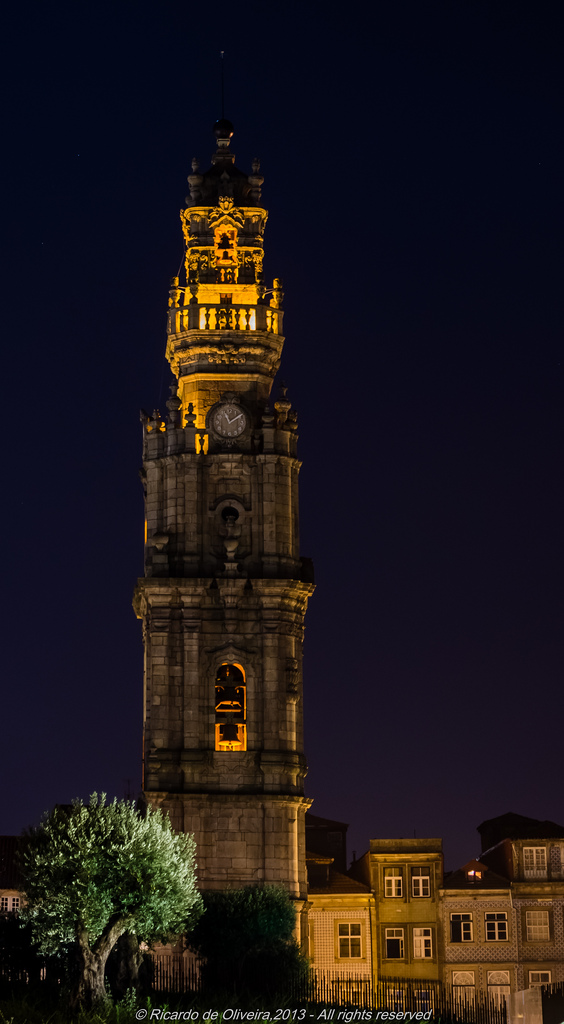clerigos: (132, 115, 317, 918)
